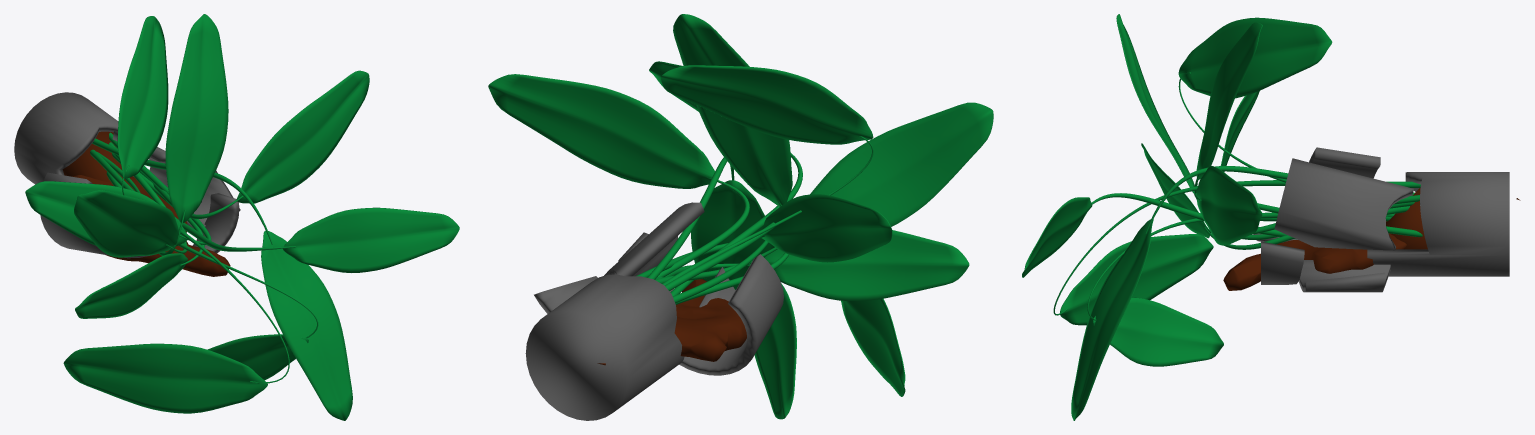
The model's file is flowerpot_break.fbx.
3 views of the same model, side by side, from view 1: azimuth 30°, elevation 25°; view 2: azimuth 150°, elevation 25°; view 3: azimuth 270°, elevation 25° (orthographic). The views are drawn at different scales.
Visible parts, largest first — view 1: Plane.005, Cylinder.002, NurbsPath.008, Cube, Cylinder.003, Cylinder.005, Cylinder.007, Cylinder.006, Cylinder.004; view 2: Plane.005, Cylinder.002, NurbsPath.008, Cylinder.005, Cube, Cylinder.004, Cylinder.006; view 3: Plane.005, Cylinder.002, Cylinder.004, NurbsPath.008, Cube, Cylinder.006, Cylinder.003, Cylinder.005, Cylinder.007.
Boxes of the visible parts, box(x1,y1,x2,y2) form: Plane.005: box(25, 14, 459, 420); Cylinder.002: box(14, 92, 133, 184); NurbsPath.008: box(90, 132, 318, 383); Cube: box(72, 175, 230, 276); Cylinder.003: box(192, 193, 239, 253); Cylinder.005: box(40, 172, 151, 258); Cylinder.007: box(62, 131, 131, 182); Cylinder.006: box(186, 170, 240, 231); Cylinder.004: box(112, 130, 201, 202); Plane.005: box(488, 14, 993, 419); Cylinder.002: box(525, 274, 684, 420); NurbsPath.008: box(636, 136, 873, 304); Cylinder.005: box(679, 254, 783, 375); Cube: box(597, 279, 746, 365); Cylinder.004: box(604, 202, 704, 276); Cylinder.006: box(534, 276, 597, 313); Plane.005: box(1022, 14, 1332, 420); Cylinder.002: box(1367, 172, 1509, 276); Cylinder.004: box(1274, 158, 1413, 250); NurbsPath.008: box(1053, 72, 1422, 320); Cube: box(1223, 198, 1520, 290); Cylinder.006: box(1298, 260, 1390, 292); Cylinder.003: box(1261, 241, 1304, 284); Cylinder.005: box(1253, 147, 1380, 242); Cylinder.007: box(1386, 188, 1427, 249).
Bounding box in the file's own units: 106 × 99.02 × 121.
